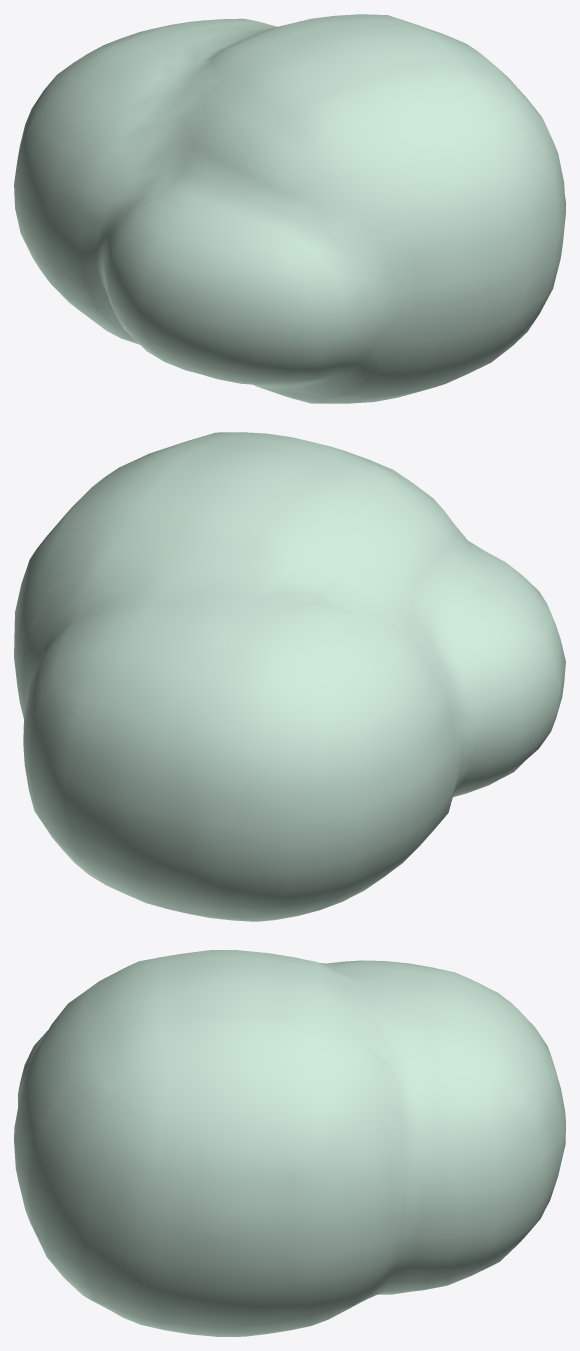
Rendered from Cloud_3.fbx.
3 views of the same model, one above another, from view 1: azimuth 30°, elevation 25°; view 2: azimuth 150°, elevation 25°; view 3: azimuth 270°, elevation 25° (orthographic). The views are drawn at different scales.
Parts seen in each view (by area): view 1: Cloud_3; view 2: Cloud_3; view 3: Cloud_3.
Boxes of the visible parts, x1,y1,x2,y2 form: Cloud_3: (14, 14, 565, 403); Cloud_3: (14, 432, 565, 921); Cloud_3: (14, 950, 565, 1336).
Bounding box in the file's own units: 3.34 × 2.46 × 3.71.
